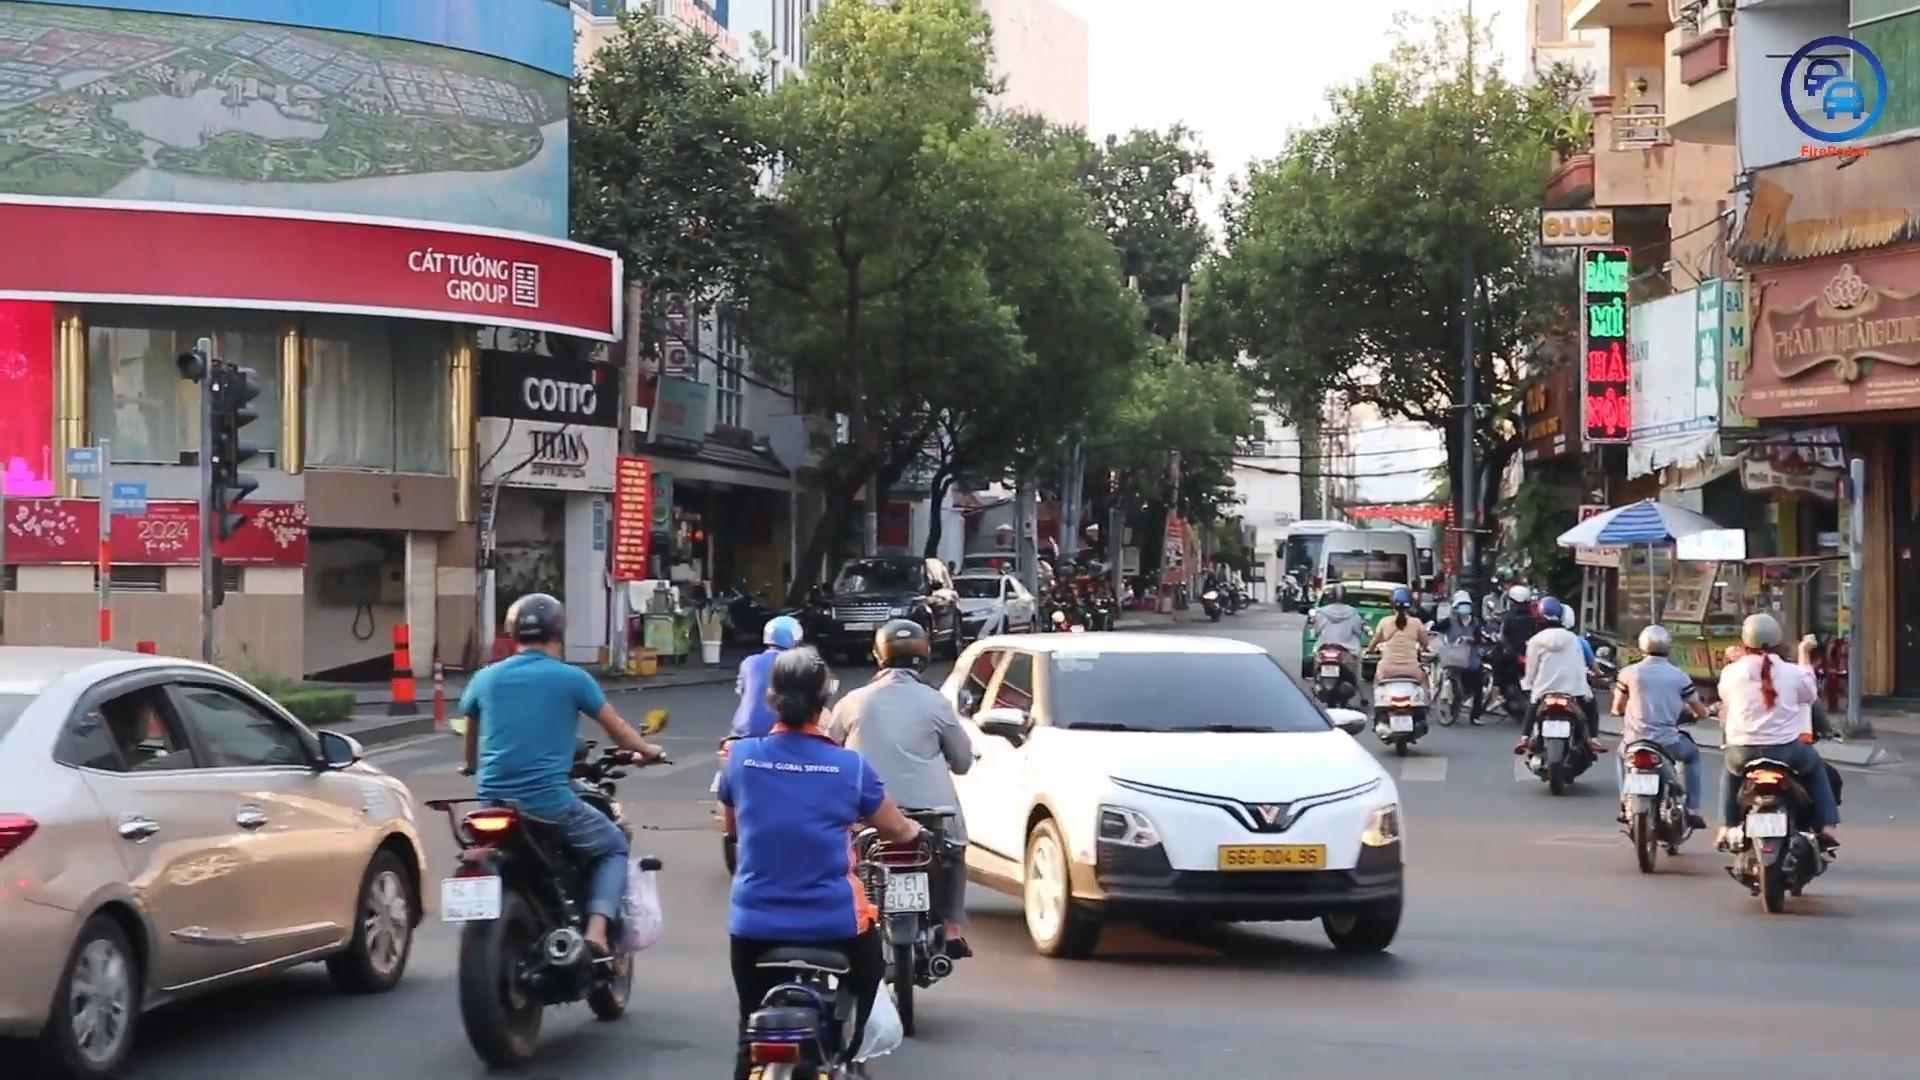bien_so: (1216, 842, 1327, 872), (439, 876, 504, 923), (886, 872, 932, 912), (1744, 812, 1789, 837), (1621, 773, 1661, 796), (1540, 719, 1571, 739), (1388, 715, 1414, 733), (1321, 664, 1341, 678)
